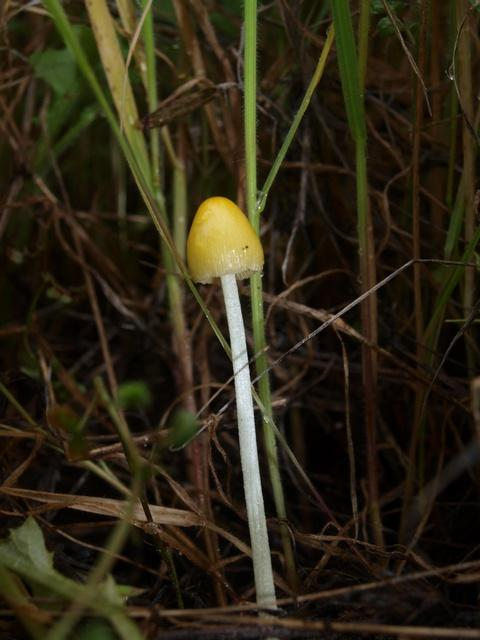Edible Mushroom: (185, 195, 280, 619)
